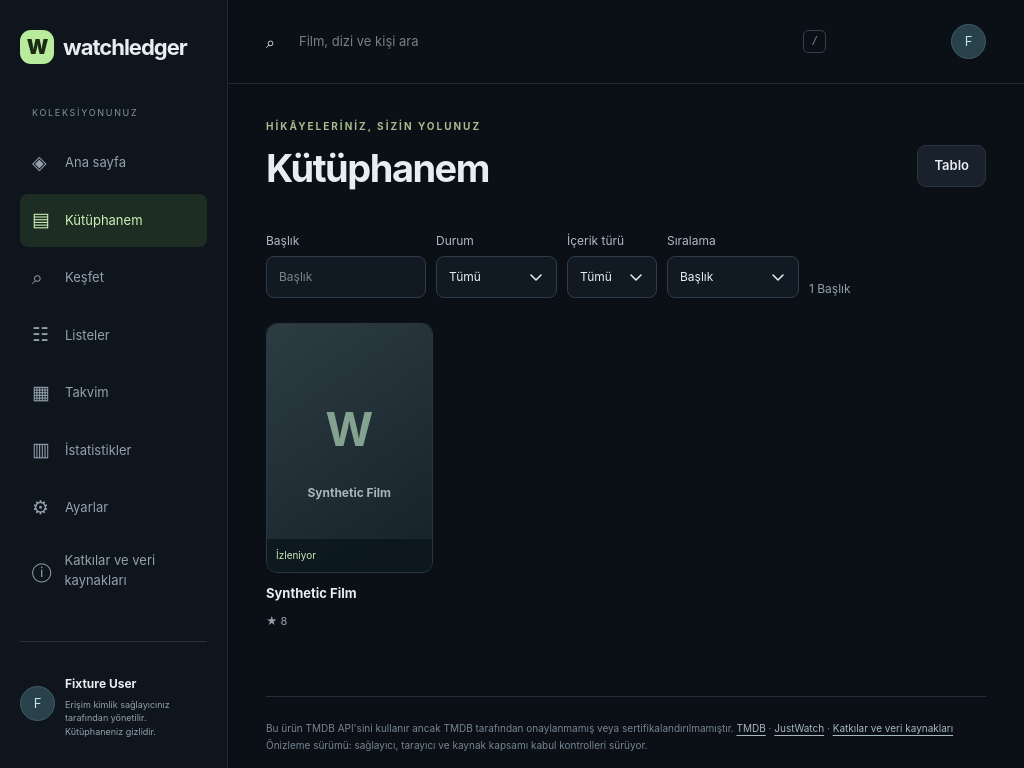
Test: authenticated private library and Turkish navigation render from API
Expected: the 1st text "Synthetic Film" is shown, [307, 484, 391, 502]
Expected: the heading "Kütüphanem" is shown, [266, 146, 489, 190]
Click the button "Tablo". click: (952, 166)
box: [918, 145, 986, 187]
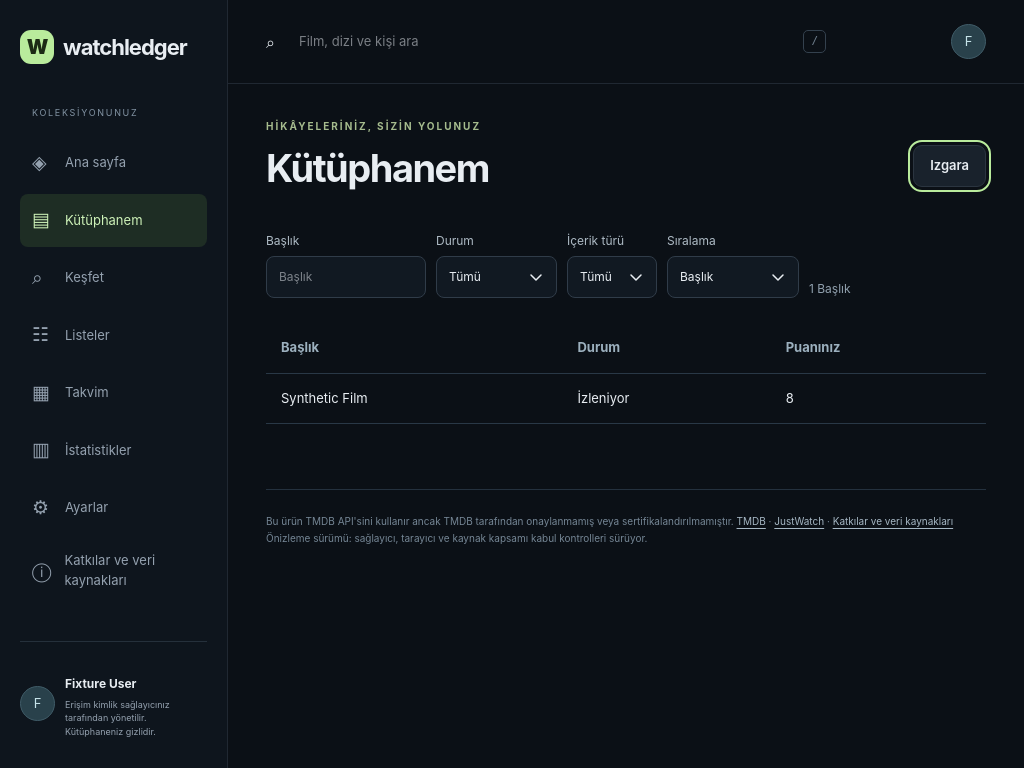
Now the table is shown, box [266, 323, 986, 424]
